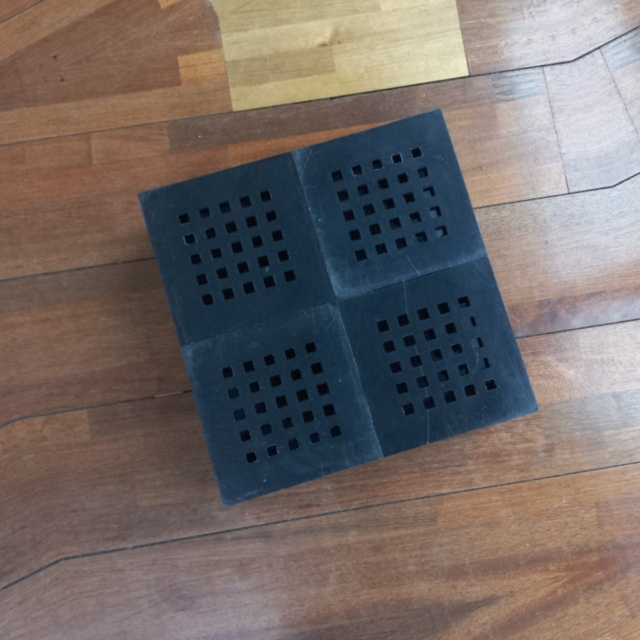pallet: (137, 98, 549, 518)
